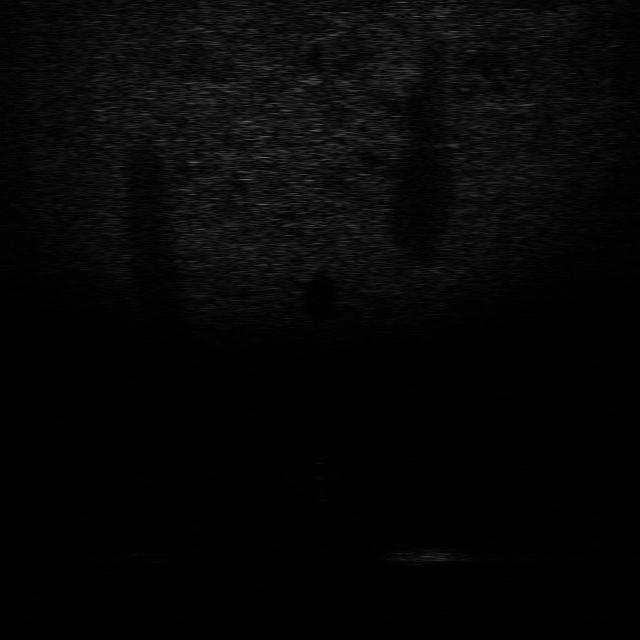ball: (298, 455, 342, 484)
metal bucket: (379, 538, 465, 567)
tyre: (106, 535, 182, 568)
